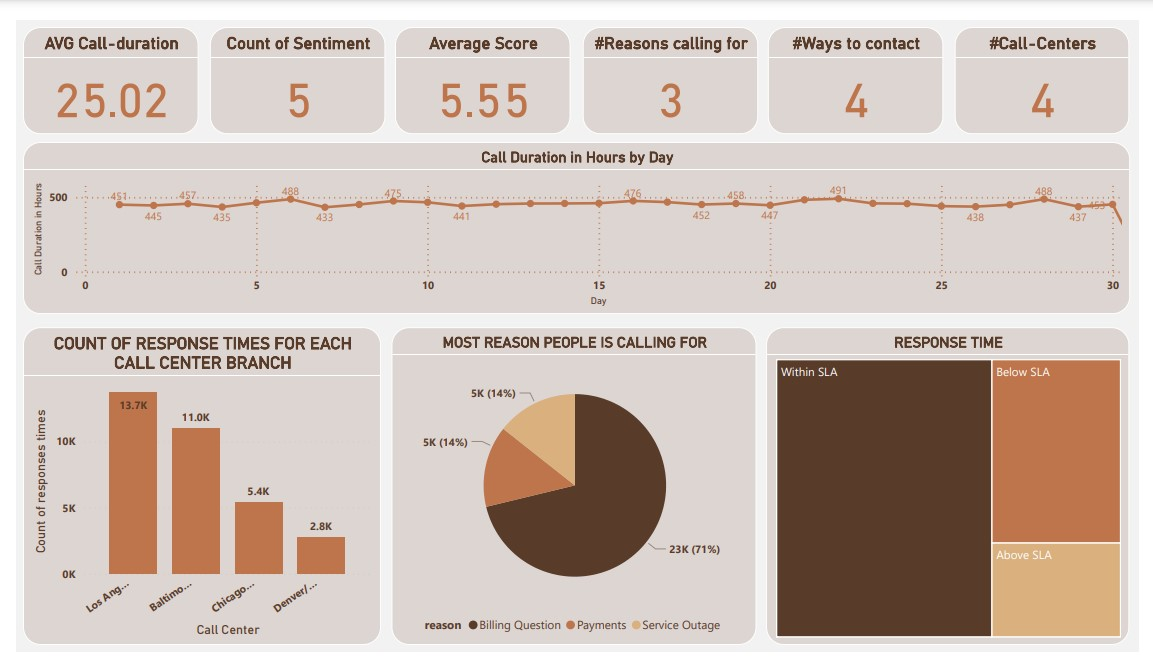

Layout of this report page (visuals, bound fields, positions):
{"tool":"powerbi","page":{"name":"Page 1","canvas":[1280,720],"ordinal":0},"visuals":[{"type":"card","title":"Count of Sentiment","fields":{"Values":["Count(Call Center.sentiment)"]},"box":[221.3,8.4,199.7,121.4],"z":0},{"type":"lineChart","title":"Call Duration in Hours by Day","fields":{"Category":["Call Center.call_timestamp.Variation.Date Hierarchy.Day"],"Y":["Sum(Call Center.Column)"]},"box":[8.4,138.7,1261.5,196.6],"z":1000},{"type":"card","title":"Average Score","fields":{"Values":["Avg(Call Center.csat_score)"]},"box":[432.4,8.4,199.7,121.4],"z":2000},{"type":"card","title":"AVG Call-duration","fields":{"Values":["Avg(Call Center.call duration in minutes)"]},"box":[8.4,8.4,199.7,121.4],"z":3000},{"type":"card","title":"#Call-Centers","fields":{"Values":["Count(Call Center.call_center)"]},"box":[1069.7,8.4,199.7,121.4],"z":4000},{"type":"columnChart","title":"COUNT OF RESPONSE TIMES FOR EACH CALL CENTER BRANCH","fields":{"Y":["CountNonNull(Call Center.response_time)"],"Category":["Call Center.call_center"]},"box":[8.4,350.1,407.6,361.8],"z":5000},{"type":"card","title":"#Reasons calling for","fields":{"Values":["Count(Call Center.reason)"]},"box":[646.2,8.4,199.7,121.4],"z":6000},{"type":"treemap","title":"RESPONSE TIME","fields":{"Values":["CountNonNull(Call Center.response_time)"],"Group":["Call Center.response_time"]},"box":[854.5,350.1,414.9,361.8],"z":7000},{"type":"card","title":"#Ways to contact","fields":{"Values":["Count(Call Center.channel)"]},"box":[857.3,8.4,199.7,121.4],"z":8000},{"type":"pieChart","title":"MOST REASON PEOPLE IS CALLING FOR","fields":{"Y":["CountNonNull(Call Center.reason)"],"Category":["Call Center.reason"]},"box":[428.1,349.7,416.1,361.8],"z":9000}]}

Visuals, with their boxes in screenshot pixels (x1, y1, x2, y2), scaled from the page's 1280x720 canvas onto the 1153x667 screenshot:
"Count of Sentiment" card: bbox=(199, 8, 379, 120)
"Call Duration in Hours by Day" lineChart: bbox=(8, 128, 1144, 311)
"Average Score" card: bbox=(389, 8, 569, 120)
"AVG Call-duration" card: bbox=(8, 8, 187, 120)
"#Call-Centers" card: bbox=(964, 8, 1143, 120)
"COUNT OF RESPONSE TIMES FOR EACH CALL CENTER BRANCH" columnChart: bbox=(8, 324, 375, 659)
"#Reasons calling for" card: bbox=(582, 8, 762, 120)
"RESPONSE TIME" treemap: bbox=(770, 324, 1143, 659)
"#Ways to contact" card: bbox=(772, 8, 952, 120)
"MOST REASON PEOPLE IS CALLING FOR" pieChart: bbox=(386, 324, 760, 659)
